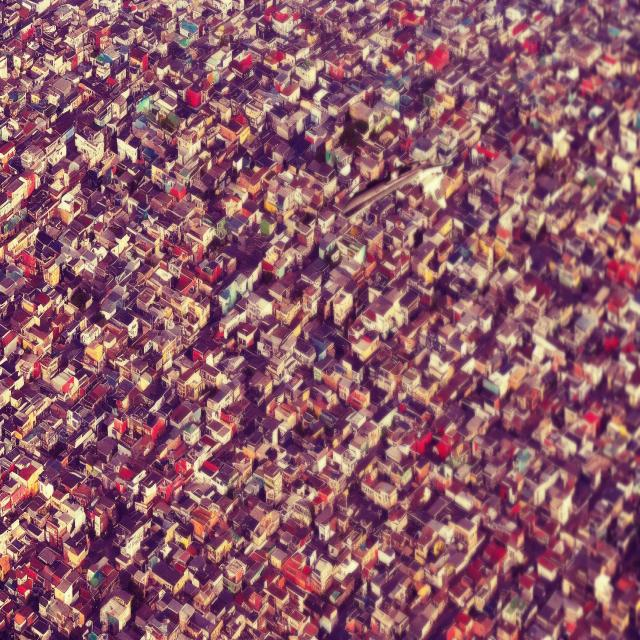airplane: (340, 162, 446, 219)
